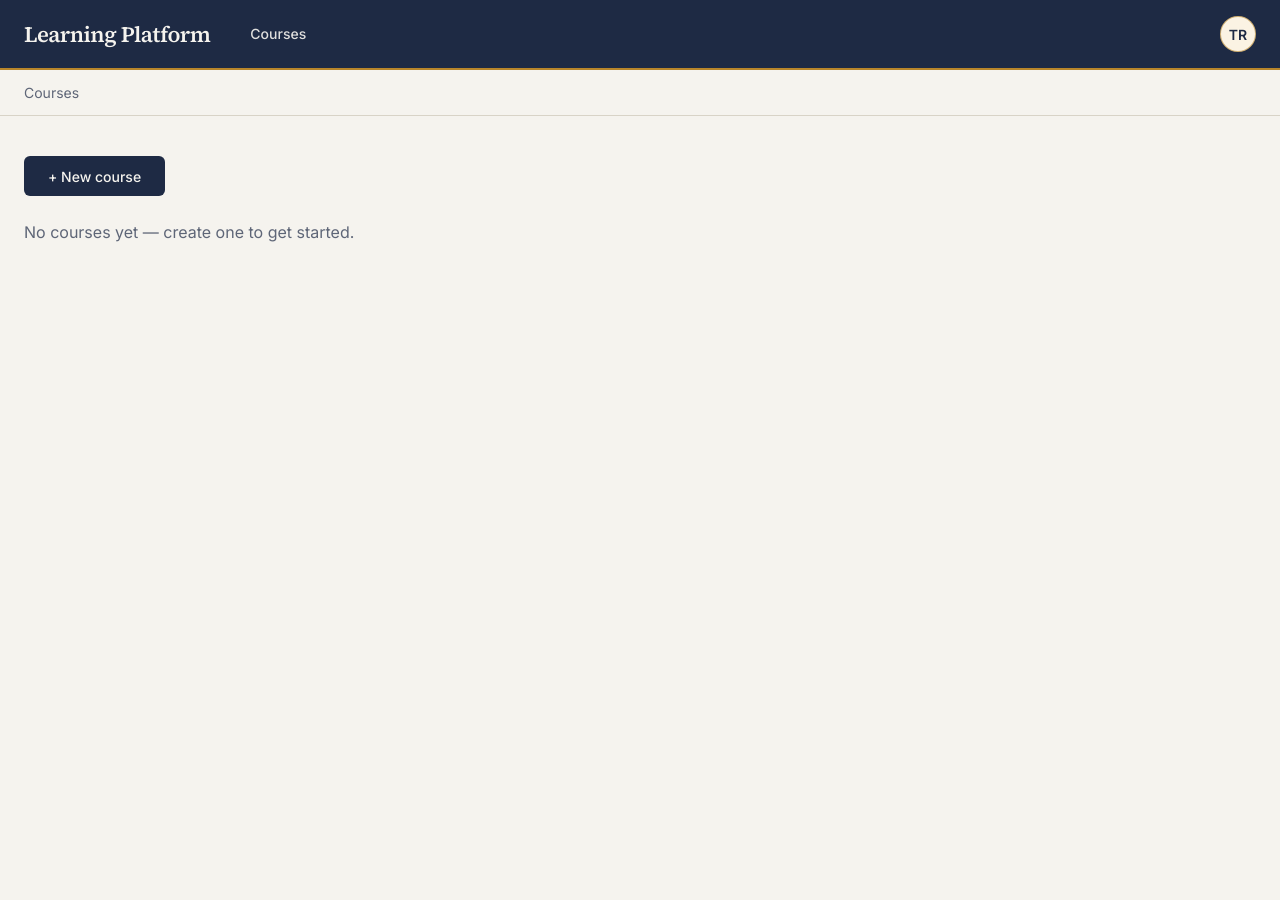
Test case: CourseDashboardPage (COURSE-001) › shows an error and keeps the form open when the title is already taken
Expected: the text "No courses yet — create one to get started." is shown, top-left (24, 222), bottom-right (354, 242)
submitting a duplicate name
Click the button "+ New course".
click(95, 176)  # box top-left (24, 156), bottom-right (165, 196)
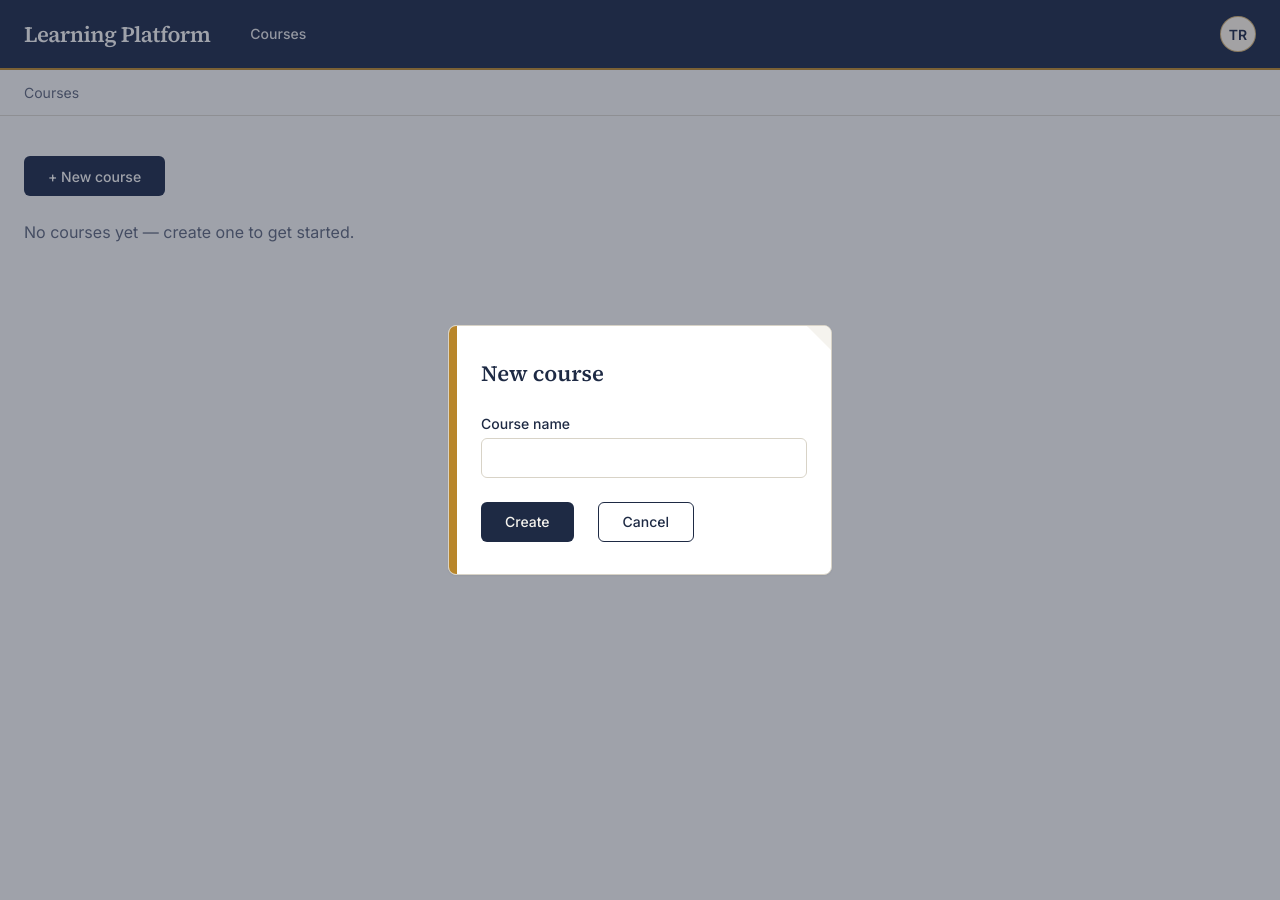
Type "Intro to Python" into the field labelled "Course name".
click(644, 458); type("Intro to Python")  # box top-left (481, 438), bottom-right (807, 478)
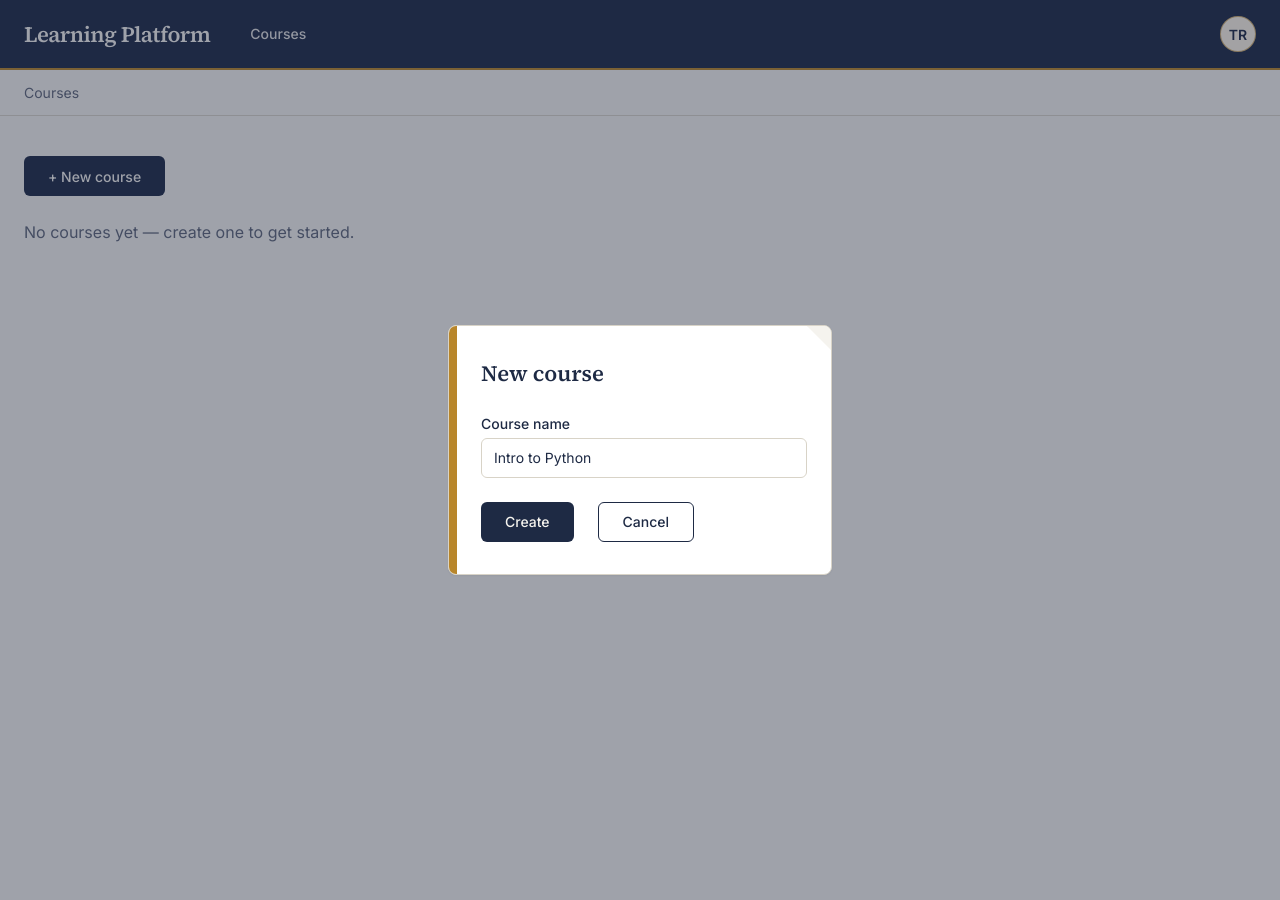
Click the button "Create".
click(527, 522)  # box top-left (481, 502), bottom-right (574, 542)
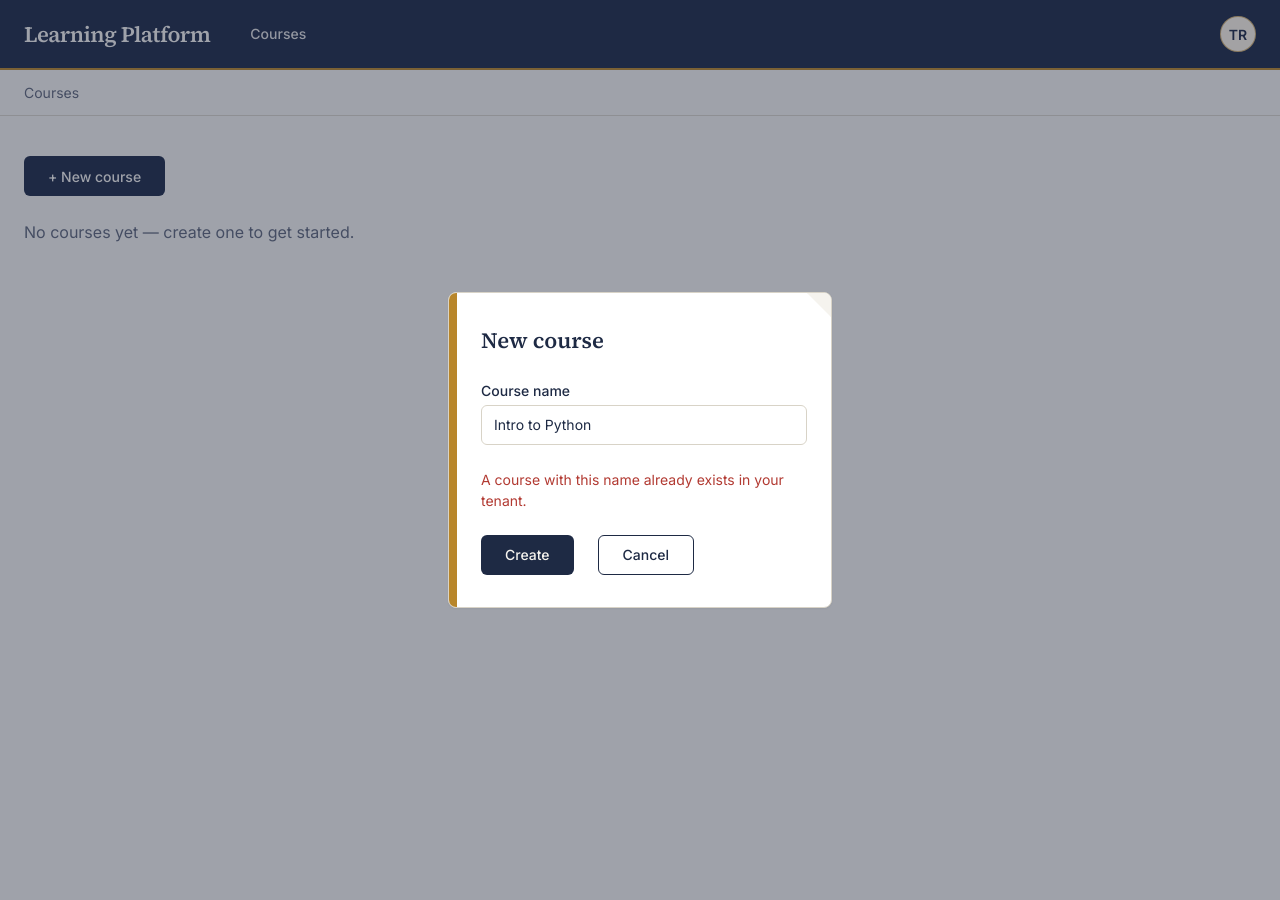
Result: the dialog is shown
Result: the text "A course with this name already exists in your tenant." is shown at top-left (481, 469), bottom-right (807, 511)
